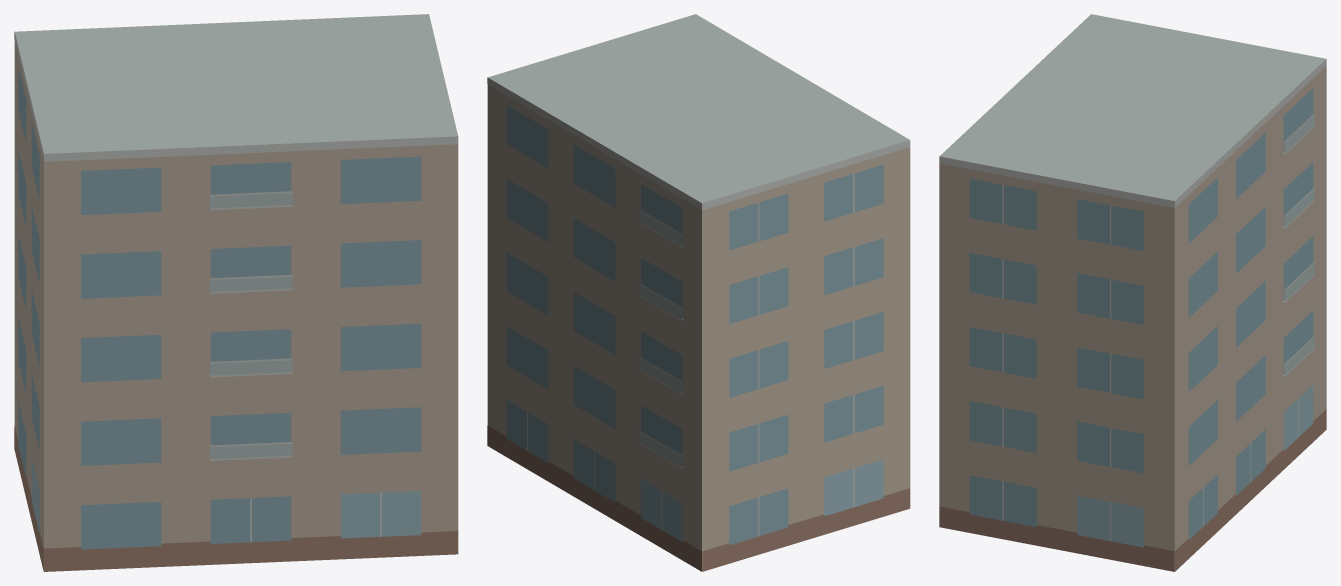
File: survey-upis-32551353.glb
The picture shows the model from 3 angles, left to right: view 1: azimuth 30°, elevation 25°; view 2: azimuth 150°, elevation 25°; view 3: azimuth 270°, elevation 25°; orthographic projection. The views are drawn at different scales.
Visible parts, largest first — view 1: survey-upis-32551353.tmp; view 2: survey-upis-32551353.tmp; view 3: survey-upis-32551353.tmp.
Part boxes in pixels (x1,y1,x2,y2): survey-upis-32551353.tmp: (14,14,458,571); survey-upis-32551353.tmp: (487,14,910,571); survey-upis-32551353.tmp: (939,14,1326,571).
Bounding box in the file's own units: 14.08 × 13 × 12.32.
